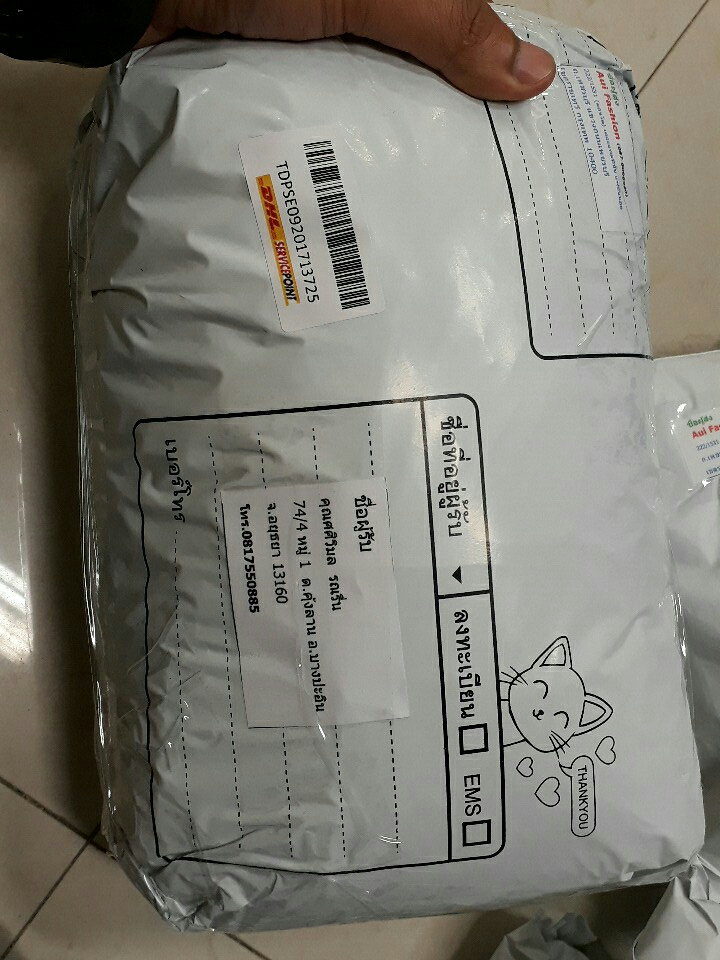ba: (235, 114, 396, 356)
txt: (230, 493, 355, 720)
